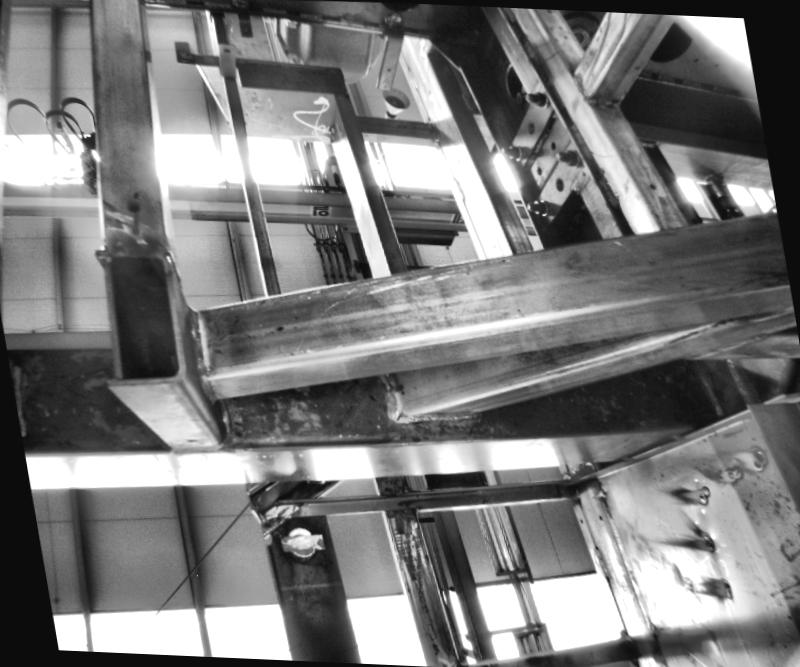bolt: (521, 87, 549, 109), (552, 145, 584, 163), (520, 193, 546, 211), (494, 139, 518, 154)
bracket: (488, 73, 599, 226), (369, 6, 411, 93), (208, 25, 232, 75)
hole: (121, 194, 141, 212), (390, 381, 406, 393), (550, 174, 560, 190), (531, 160, 539, 171), (184, 435, 195, 442), (576, 513, 584, 522), (647, 180, 655, 188), (488, 239, 496, 246), (379, 80, 386, 87), (383, 64, 390, 70), (596, 513, 602, 519), (425, 88, 428, 92)
welding: (378, 403, 473, 421), (182, 302, 206, 366), (373, 364, 401, 416), (592, 543, 606, 576), (405, 66, 416, 87)
